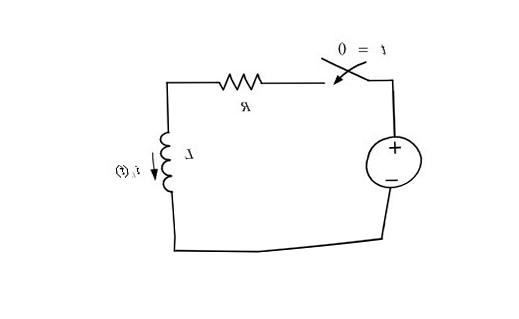Battery: (350, 127, 434, 197)
